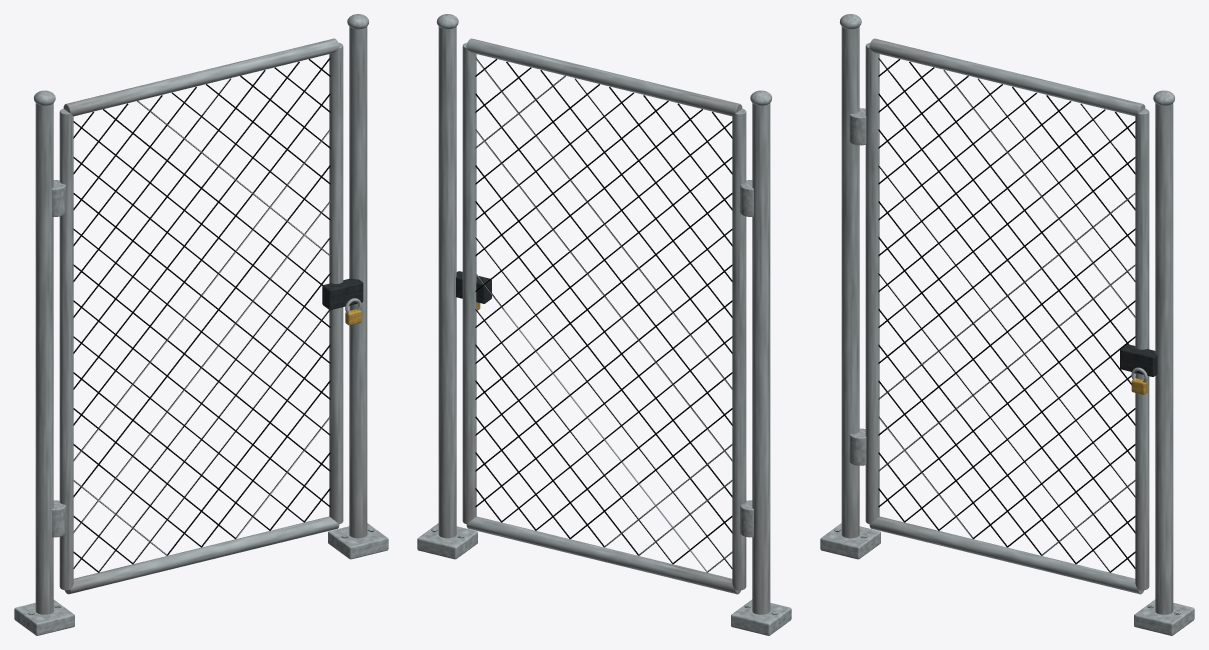
File: GR_PedestrianGate_03.glb
3 renders of one model, left to right at view 1: azimuth 30°, elevation 25°; view 2: azimuth 150°, elevation 25°; view 3: azimuth 330°, elevation 25°, orthographic.
Visible parts, largest first — view 1: Static; view 2: Static; view 3: Static.
Part boxes in pixels (x1=…): Static: x1=14, y1=14, x2=388, y2=635; Static: x1=417, y1=14, x2=791, y2=635; Static: x1=820, y1=14, x2=1194, y2=635.
Bounding box in the file's own units: 1.44 × 2.08 × 0.1635.
Materials: 1 (1 with a texture image).
